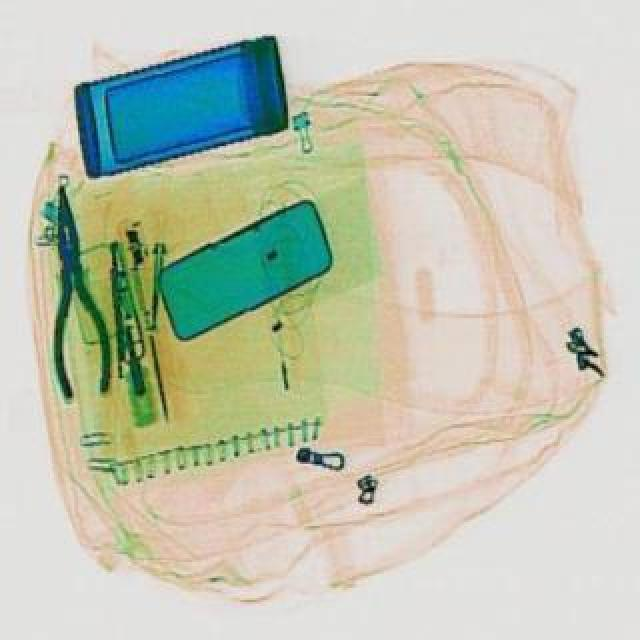wrench: (32, 184, 112, 398)
